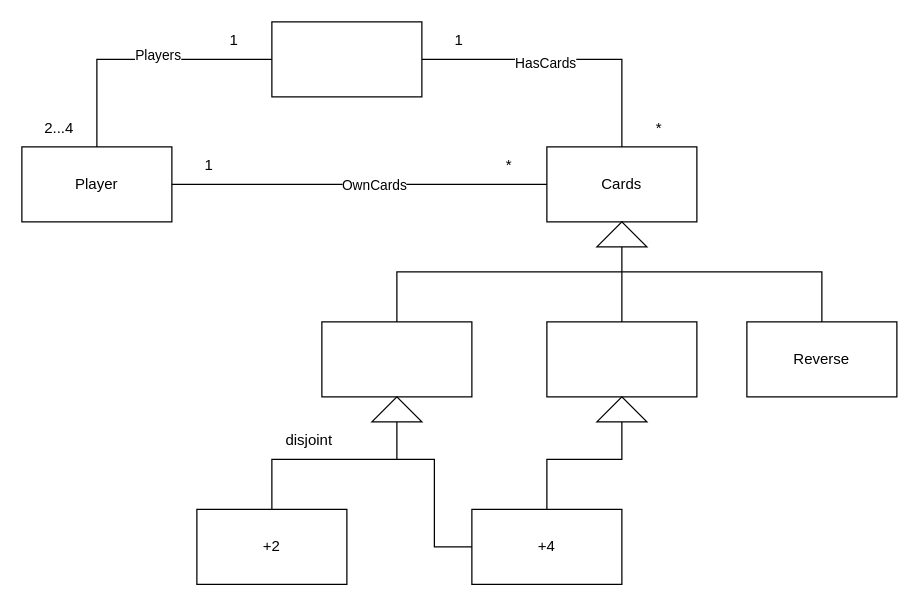
This 919x606 diagram has some shape labels left out. The centre of each missing label's shape, as x and y in pixels:
Skip: point 396,359
UNO Game: point 346,59
Wild: point 621,359
